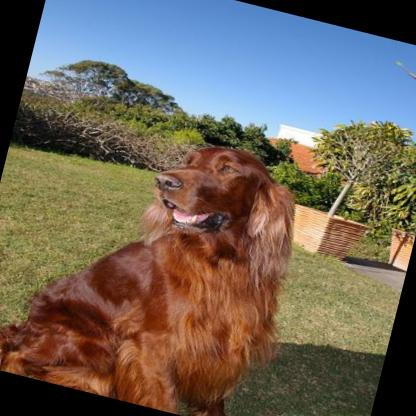Irish_setter: (0, 92, 313, 416)
